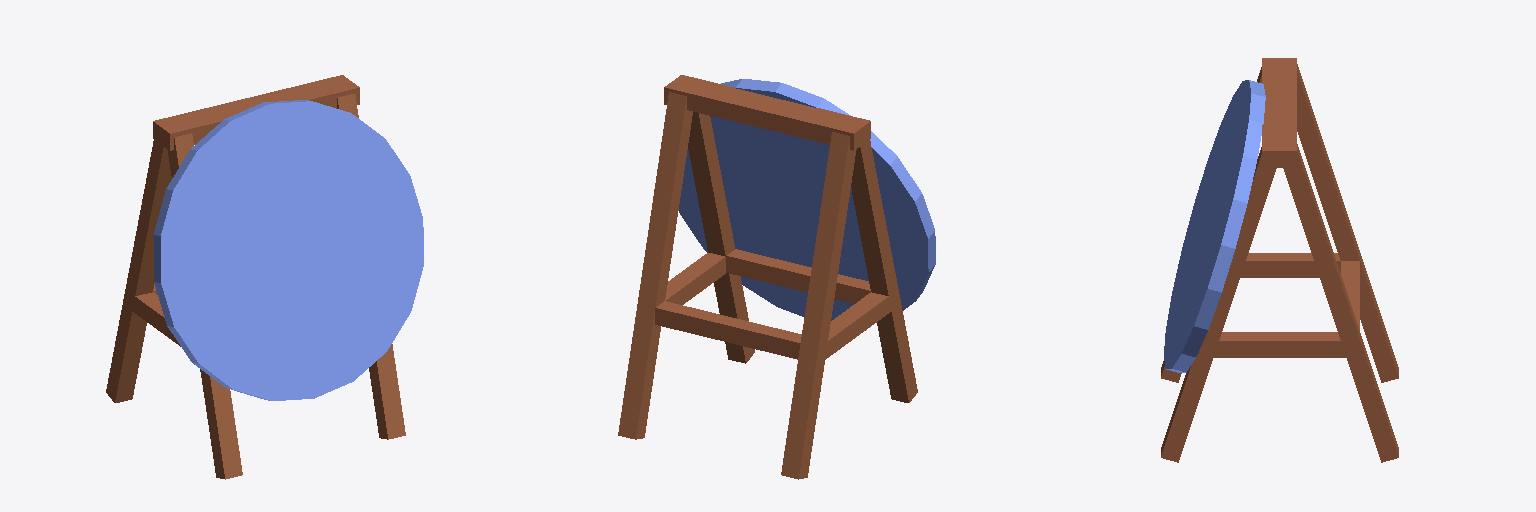
Rendered from ArcheryTarget.obj.
3 views of the same model, side by side, from view 1: azimuth 30°, elevation 25°; view 2: azimuth 150°, elevation 25°; view 3: azimuth 270°, elevation 25° (orthographic).
Visible parts, largest first — view 1: ArcheryTarget; view 2: ArcheryTarget; view 3: ArcheryTarget.
Boxes of the visible parts, x1=… form: ArcheryTarget: x1=106, y1=75, x2=423, y2=479; ArcheryTarget: x1=618, y1=75, x2=935, y2=479; ArcheryTarget: x1=1161, y1=58, x2=1398, y2=462.
Bounding box in the file's own units: 0.9681 × 1.15 × 0.7632.